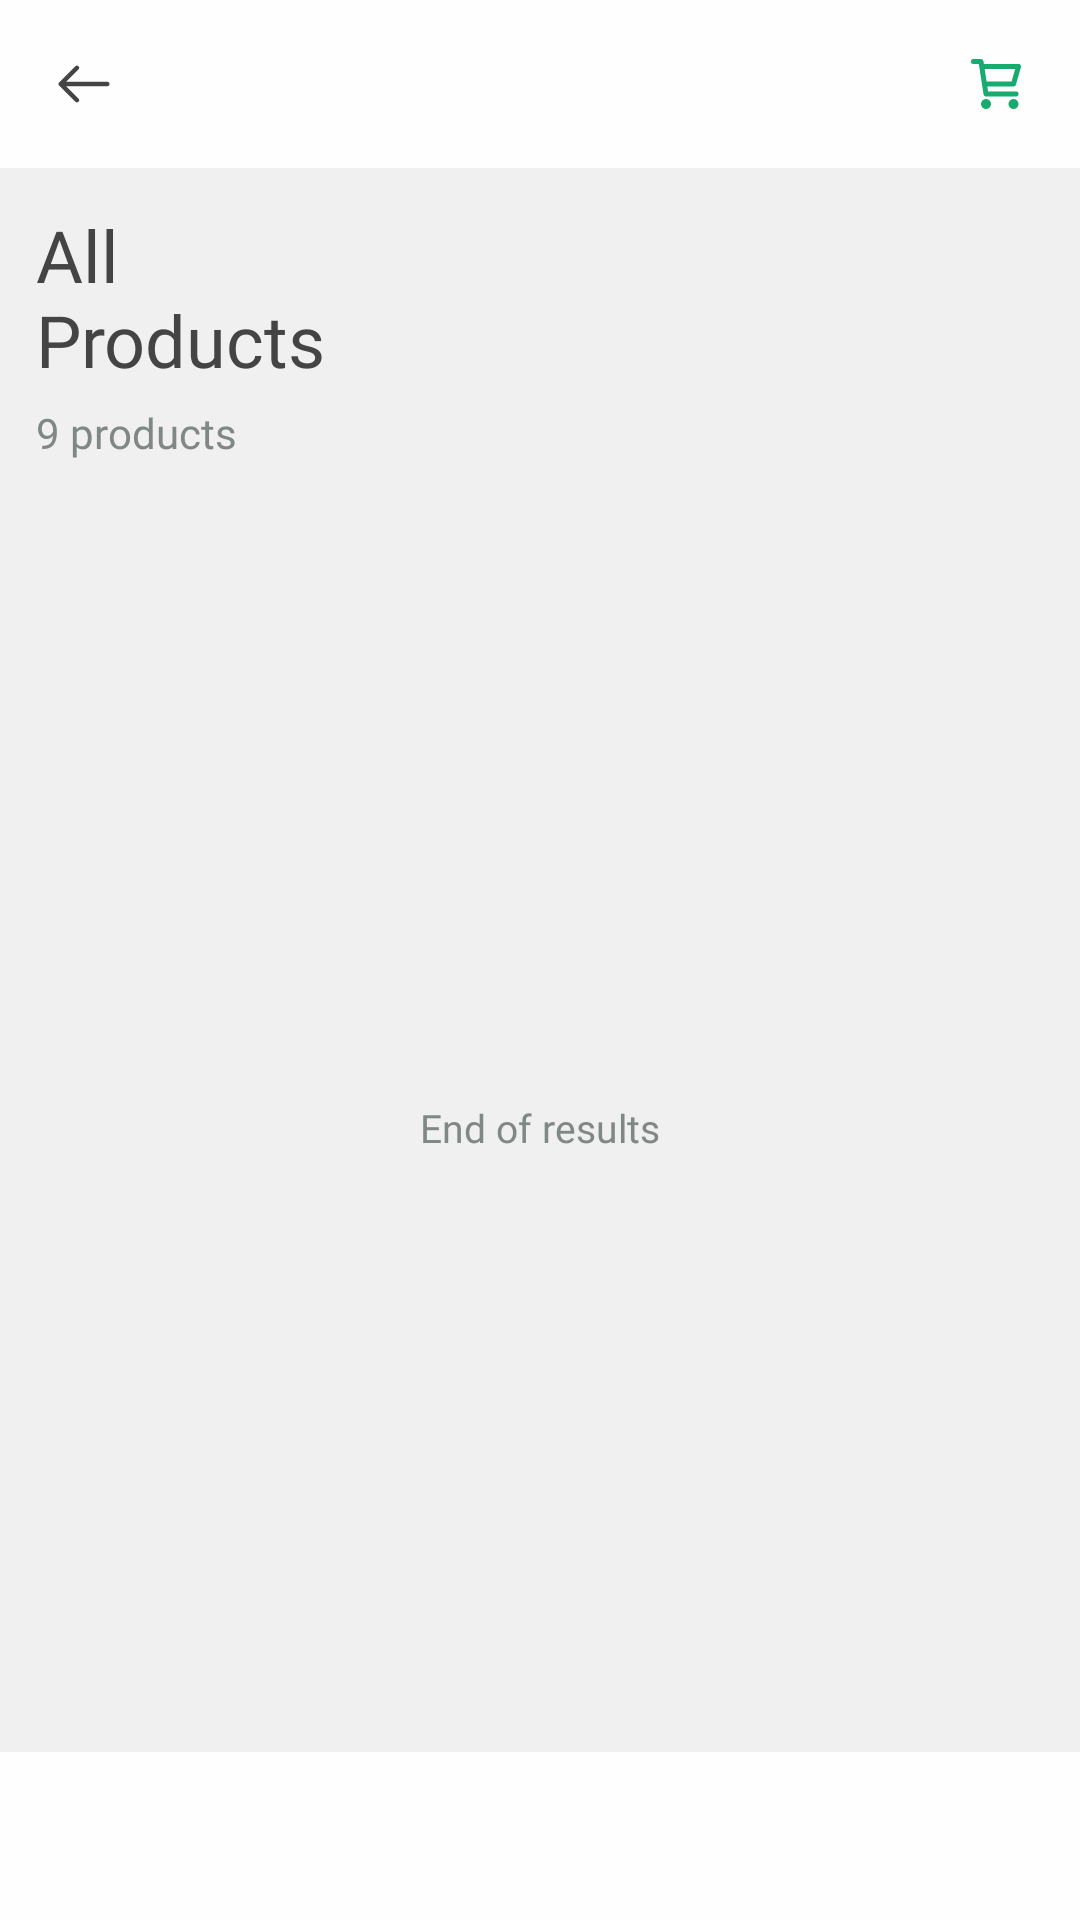

Screen size 1080px×1920px. Icon name, then its center in pixels as [x,y]:
Back Button: [84,84]
Cart Icon: [996,84]
